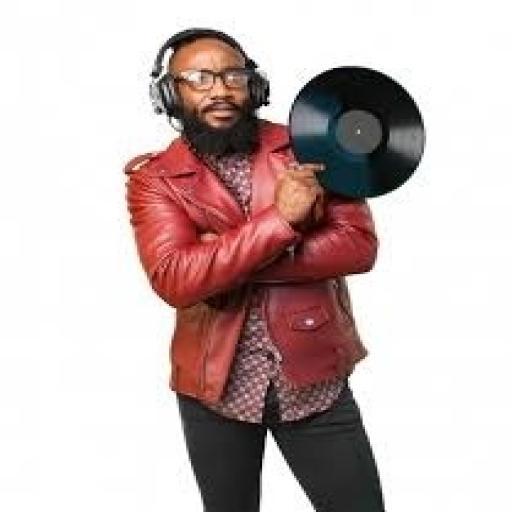listening_to_music: (120, 25, 409, 510)
